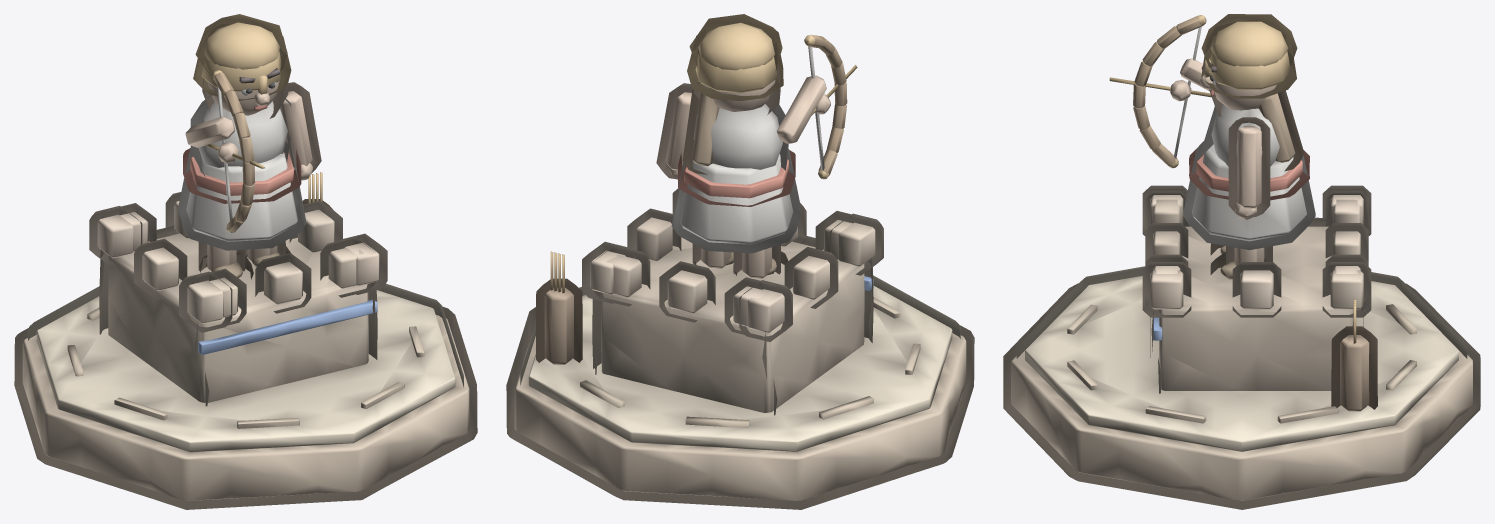
Rendered from bronze_archer.glb.
3 views of the same model, side by side, from view 1: azimuth 30°, elevation 25°; view 2: azimuth 150°, elevation 25°; view 3: azimuth 270°, elevation 25° (orthographic).
Parts seen in each view (by area): view 1: M_BronzeArcher, M_Body, M_BronzeArcher_Outline, M_Body_Outline, M_Arm; view 2: M_BronzeArcher, M_Body, M_BronzeArcher_Outline, M_Body_Outline, M_Arm; view 3: M_BronzeArcher, M_BronzeArcher_Outline, M_Body, M_Body_Outline, M_Arm.
Part boxes in pixels (x1=…): M_BronzeArcher: x1=22, y1=172, x2=469, y2=500; M_Body: x1=186, y1=22, x2=312, y2=277; M_BronzeArcher_Outline: x1=14, y1=192, x2=477, y2=509; M_Body_Outline: x1=178, y1=14, x2=321, y2=279; M_Arm: x1=185, y1=70, x2=264, y2=232; M_BronzeArcher: x1=514, y1=217, x2=966, y2=500; M_Body: x1=665, y1=22, x2=793, y2=278; M_BronzeArcher_Outline: x1=506, y1=188, x2=974, y2=509; M_Body_Outline: x1=656, y1=14, x2=801, y2=275; M_Arm: x1=777, y1=34, x2=857, y2=179; M_BronzeArcher: x1=1011, y1=195, x2=1472, y2=500; M_BronzeArcher_Outline: x1=1003, y1=185, x2=1480, y2=509; M_Body: x1=1192, y1=21, x2=1306, y2=279; M_Body_Outline: x1=1183, y1=14, x2=1315, y2=274; M_Arm: x1=1109, y1=15, x2=1211, y2=168.
Bounding box in the file's own units: 3.18 × 2.9 × 3.18.
